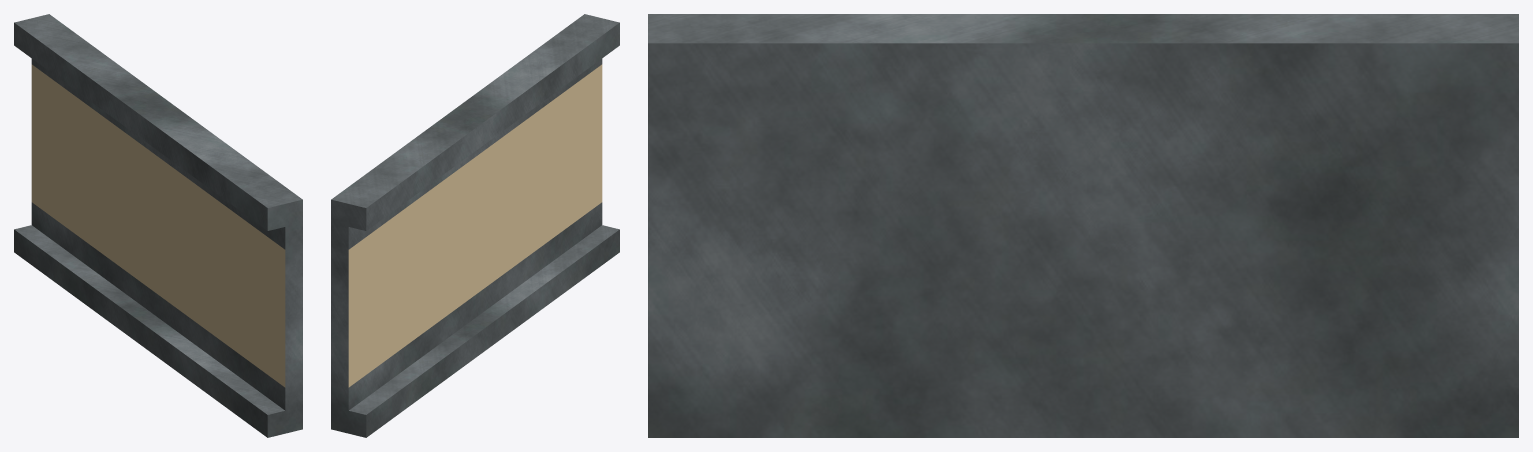
The model's file is sign.fbx.
3 views of the same model, side by side, from view 1: azimuth 30°, elevation 25°; view 2: azimuth 150°, elevation 25°; view 3: azimuth 270°, elevation 25° (orthographic). The views are drawn at different scales.
Parts seen in each view (by area): view 1: sign_center; view 2: sign_center; view 3: sign_center.
Boxes of the visible parts, x1,y1,x2,y2 form: sign_center: (14,14,302,437); sign_center: (331,14,619,437); sign_center: (648,14,1518,437).
Bounding box in the file's own units: 0.8 × 5 × 10.
Materials: 2 (1 with a texture image).
